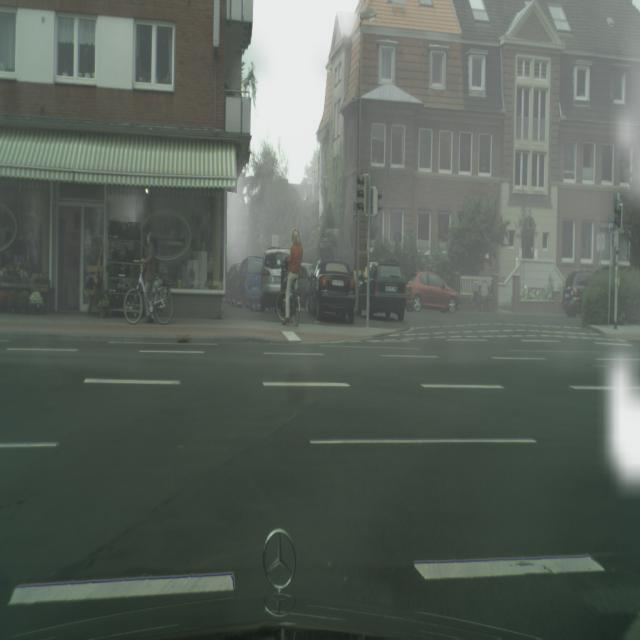car: (123, 264, 173, 325), (276, 276, 301, 327)
person: (285, 229, 303, 318), (141, 231, 159, 320)
truck: (307, 259, 356, 324), (358, 262, 407, 321), (405, 271, 460, 314), (260, 248, 290, 311), (561, 269, 597, 317), (239, 256, 264, 311), (297, 261, 315, 311), (225, 263, 239, 304)
